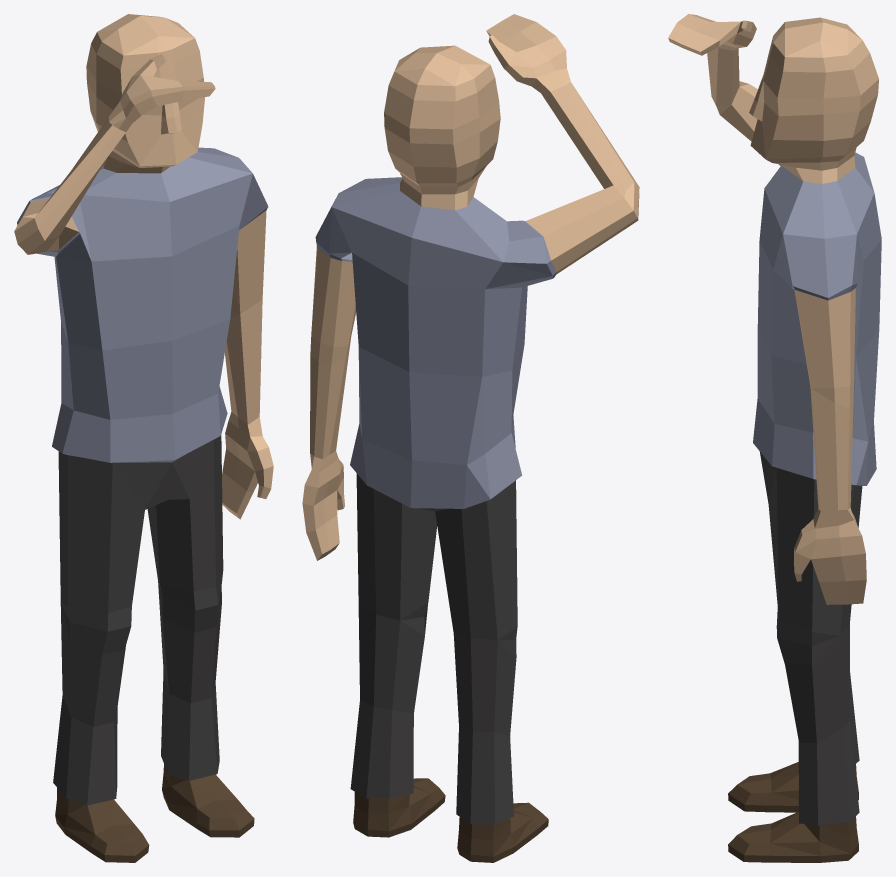
File: Male_Standing_CoveringEyes.glb
The picture shows the model from 3 angles, left to right: view 1: azimuth 30°, elevation 25°; view 2: azimuth 150°, elevation 25°; view 3: azimuth 270°, elevation 25°; orthographic projection. The views are drawn at different scales.
Parts seen in each view (by area): view 1: Male_Standing_CoveringEyes; view 2: Male_Standing_CoveringEyes; view 3: Male_Standing_CoveringEyes.
Boxes of the visible parts, x1,y1,x2,y2 form: Male_Standing_CoveringEyes: (14, 14, 273, 862); Male_Standing_CoveringEyes: (302, 14, 639, 862); Male_Standing_CoveringEyes: (668, 14, 881, 862).
Bounding box in the file's own units: 1.44 × 3.85 × 0.9277.
